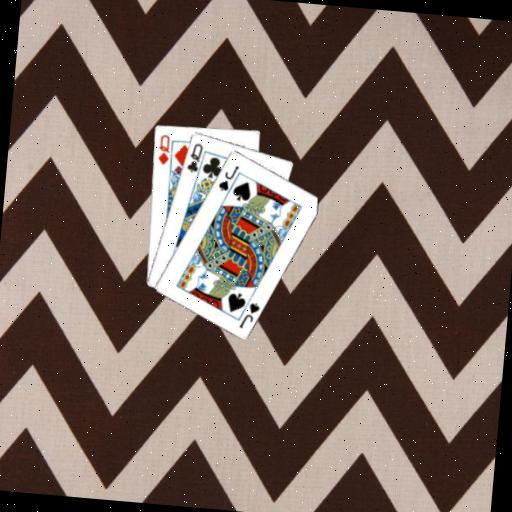JS: (215, 161, 241, 194), (236, 298, 262, 331)
QC: (184, 140, 205, 175)
QD: (155, 131, 173, 166)
